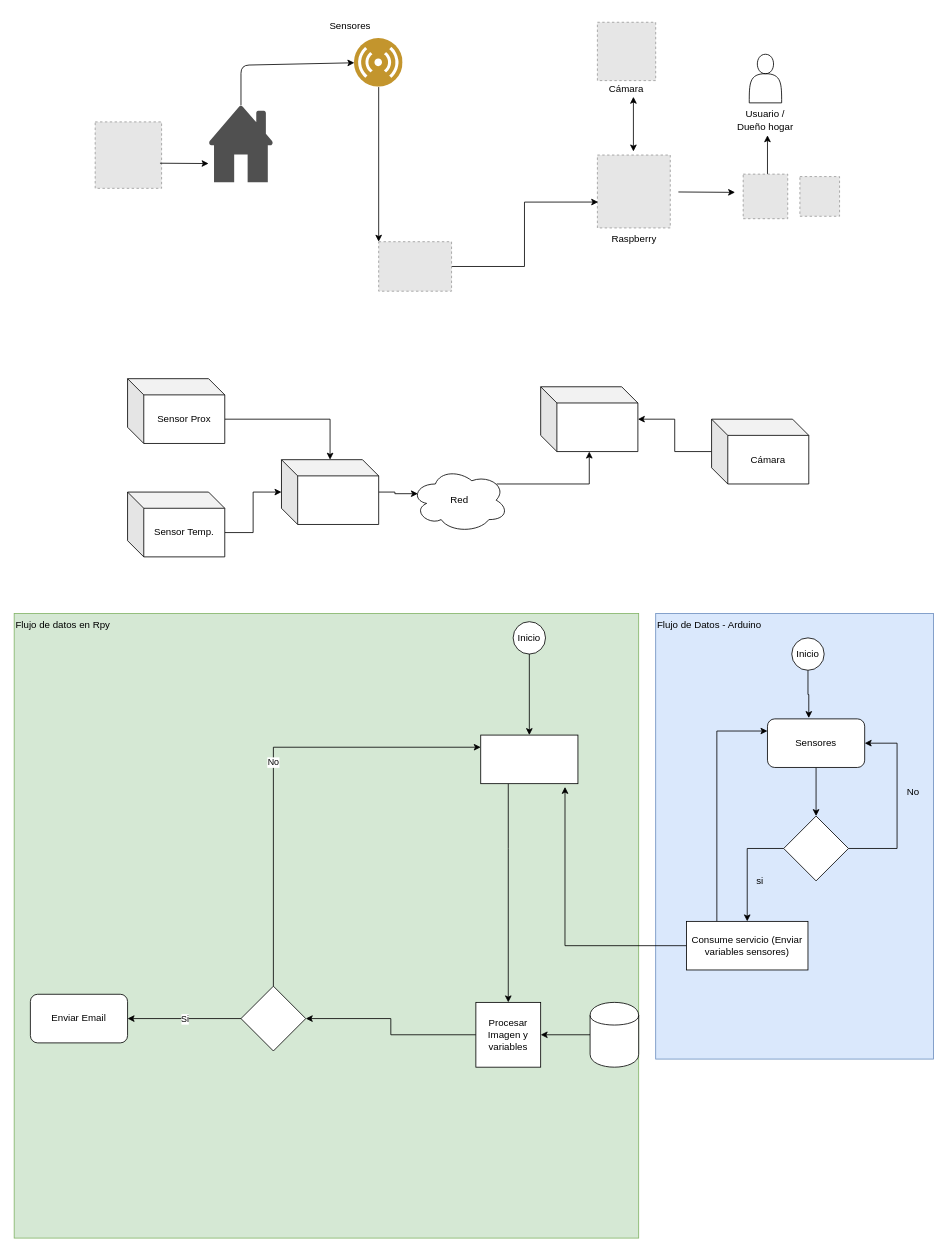
This 948x1252 diagram has some shape labels left out. Grey dashed boxes stand in for pictures. The centre of each missing label's shape, as x and y in pixels:
"Arduino" belongs at (330,491).
"Exponer Servicio" belongs at (529,759).
"Fotos" belongs at (614,1034).
"Hay una persona?" belongs at (273,1018).
"Servicio(Python) RPy" belongs at (589,419).
"temp > uT & prox >uPro" belongs at (815,848).
